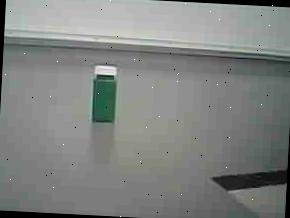Bottle C: (82, 58, 126, 132)
